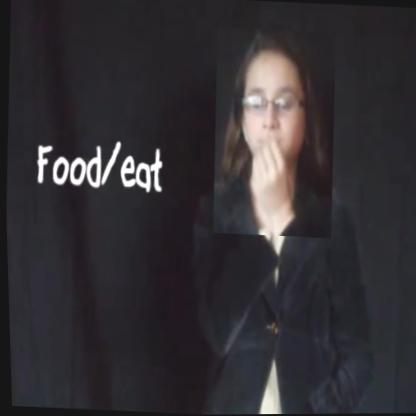Food: (206, 26, 340, 239)
